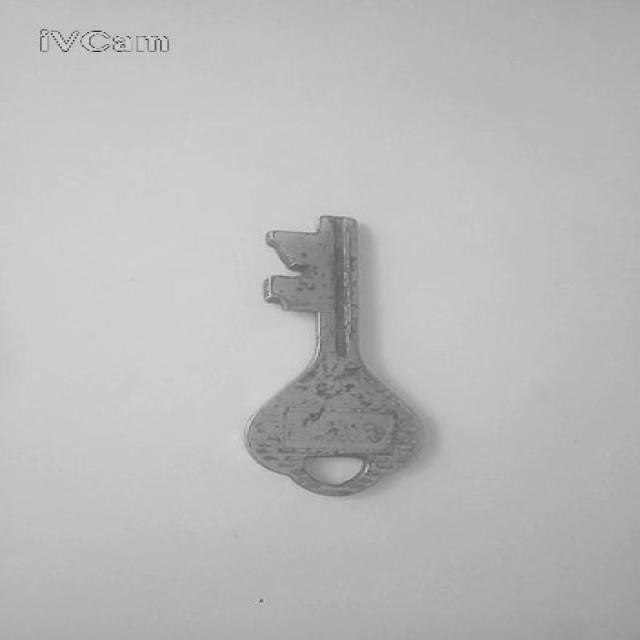key: (247, 216, 422, 497)
